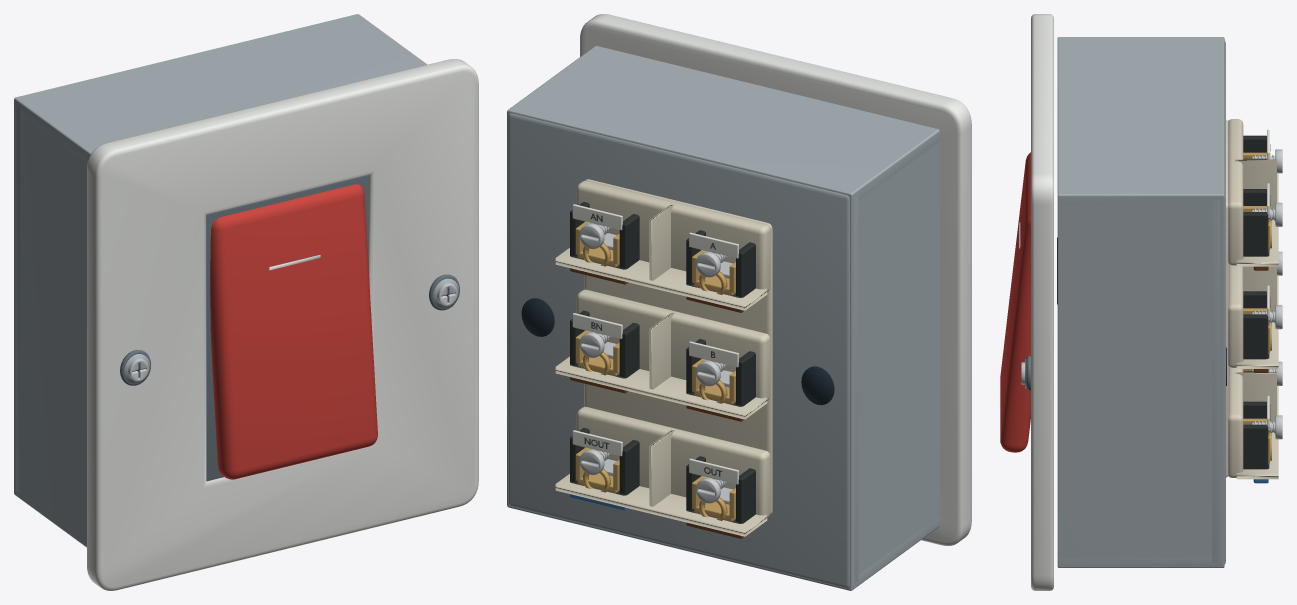
File: changeover_red-isolator-rocker.glb
3 renders of one model, left to right at view 1: azimuth 30°, elevation 25°; view 2: azimuth 150°, elevation 25°; view 3: azimuth 270°, elevation 25°, orthographic. The views are drawn at different scales.
Visible parts, largest first — view 1: part:cover, part:body · Original 2a8198d3, motion:rocker, part:actuator, detail:faceplate-fixing · Detail zinc plated fixing, part:cover · Original 0905ee26; view 2: part:body · Original 2a8198d3, part:terminals · Original 5a609f27, part:cover, part:body · Original a463fd81, detail:terminal-clamp:NOUT · Detail moulded engineering poly, detail:terminal-clamp:AN · Detail moulded engineering polyme, detail:terminal-clamp:BN · Detail moulded engineering polyme, detail:terminal-clamp:B · Detail moulded engineering polymer, detail:terminal-clamp:OUT · Detail moulded engineering polym, detail:terminal-clamp:A · Detail moulded engineering polymer, detail:terminal-clamp:BN · Detail machined brass, detail:terminal-clamp:AN · Detail machined brass (+16 smaller); view 3: part:body · Original 2a8198d3, part:cover, part:terminals · Original 5a609f27, motion:rocker, detail:terminal-clamp:NOUT · Detail moulded engineering poly, detail:terminal-clamp:BN · Detail moulded engineering polyme, detail:terminal-clamp:AN · Detail moulded engineering polyme, detail:terminal-clamp:A · Detail moulded engineering polymer.
Part boxes in pixels (x1,y1,x2,y2): part:cover: (87, 59, 478, 590); part:body · Original 2a8198d3: (14, 14, 427, 547); motion:rocker: (210, 184, 377, 479); part:actuator: (206, 175, 368, 481); detail:faceplate-fixing · Detail zinc plated fixing: (128, 283, 457, 381); part:cover · Original 0905ee26: (120, 274, 459, 385); part:body · Original 2a8198d3: (507, 46, 939, 590); part:terminals · Original 5a609f27: (555, 179, 772, 536); part:cover: (580, 14, 971, 545); part:body · Original a463fd81: (521, 298, 834, 405); detail:terminal-clamp:NOUT · Detail moulded engineering poly: (570, 428, 639, 495); detail:terminal-clamp:AN · Detail moulded engineering polyme: (570, 202, 639, 269); detail:terminal-clamp:BN · Detail moulded engineering polyme: (570, 310, 639, 378); detail:terminal-clamp:B · Detail moulded engineering polymer: (686, 339, 755, 406); detail:terminal-clamp:OUT · Detail moulded engineering polym: (686, 456, 755, 523); detail:terminal-clamp:A · Detail moulded engineering polymer: (686, 230, 755, 297); detail:terminal-clamp:BN · Detail machined brass: (575, 330, 619, 376); detail:terminal-clamp:AN · Detail machined brass: (575, 221, 619, 267); part:body · Original 2a8198d3: (1057, 37, 1225, 567); part:cover: (1031, 14, 1053, 590); part:terminals · Original 5a609f27: (1226, 119, 1278, 479); motion:rocker: (1000, 152, 1030, 452); detail:terminal-clamp:NOUT · Detail moulded engineering poly: (1243, 401, 1269, 469); detail:terminal-clamp:BN · Detail moulded engineering polyme: (1243, 291, 1269, 359); detail:terminal-clamp:AN · Detail moulded engineering polyme: (1243, 189, 1269, 256); detail:terminal-clamp:A · Detail moulded engineering polymer: (1243, 135, 1266, 159).
Size of the model in its own units: 0.8918 by 0.9813 by 0.6055.
